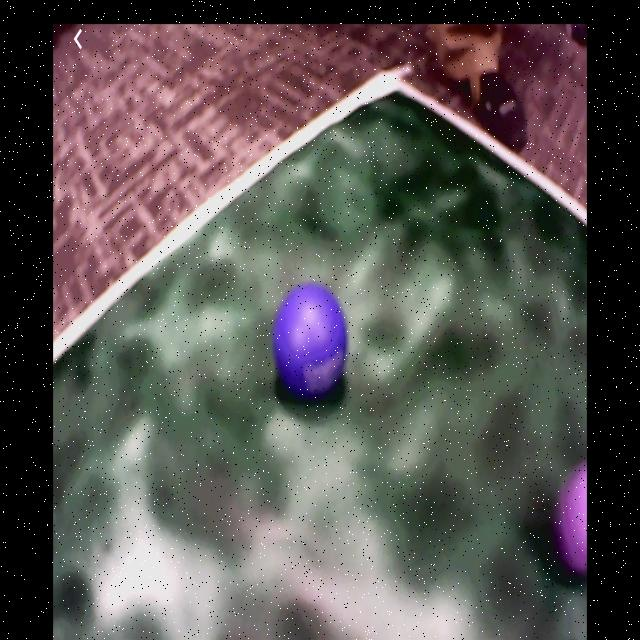ball: (275, 284, 346, 400), (559, 462, 587, 574)
